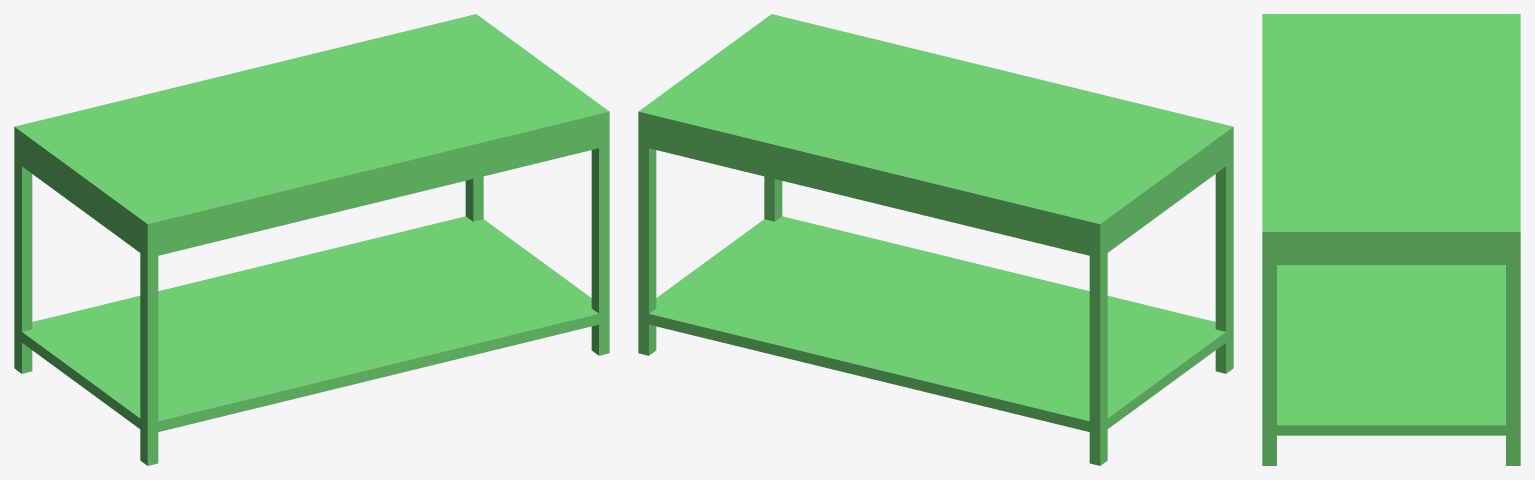
Rendered from Desk_08_D.fbx.
The picture shows the model from 3 angles, left to right: view 1: azimuth 30°, elevation 25°; view 2: azimuth 150°, elevation 25°; view 3: azimuth 270°, elevation 25°; orthographic projection. The views are drawn at different scales.
Visible parts, largest first — view 1: Desk_08_D; view 2: Desk_08_D; view 3: Desk_08_D.
Part boxes in pixels (box(x1,y1,x2,y2)): Desk_08_D: box(14, 14, 609, 465); Desk_08_D: box(638, 14, 1233, 465); Desk_08_D: box(1262, 14, 1520, 465).
Size of the model in its own units: 183 by 91.44 by 91.44.
